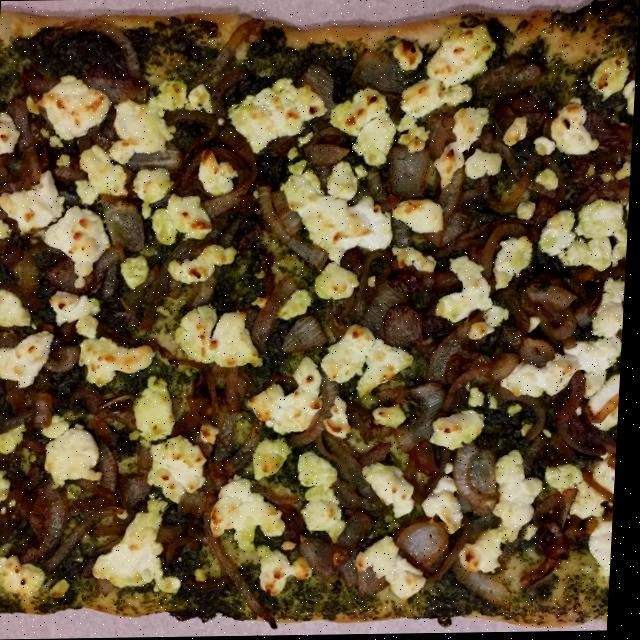pizza: (0, 0, 640, 638)
